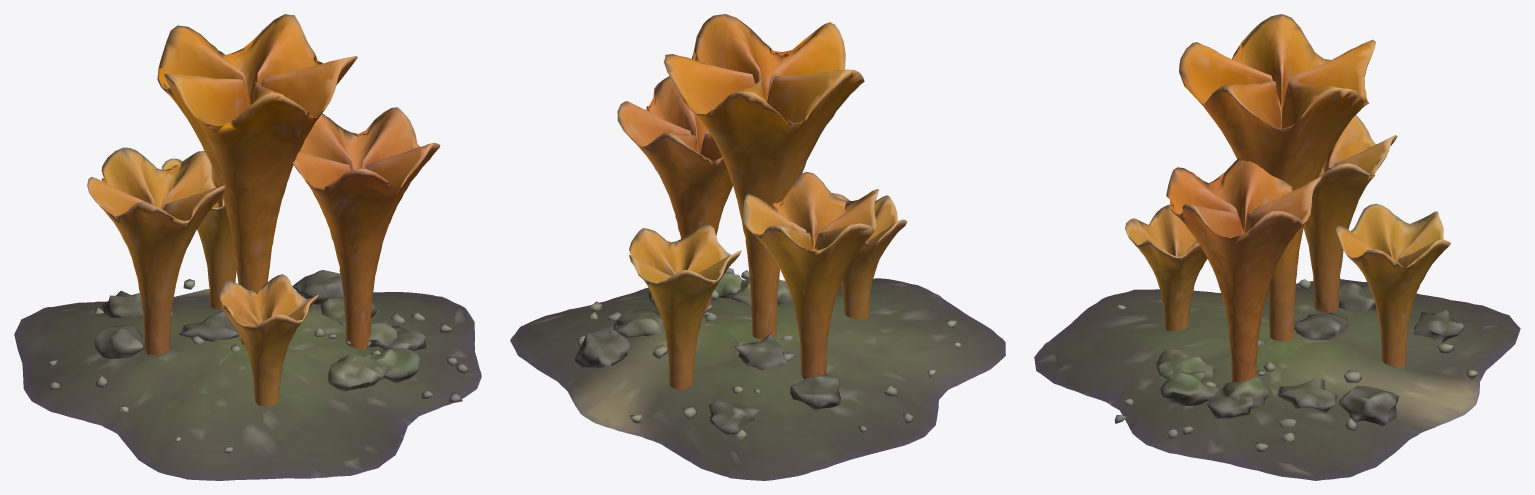
The model's file is mantar_huni.glb.
The picture shows the model from 3 angles, left to right: view 1: azimuth 30°, elevation 25°; view 2: azimuth 150°, elevation 25°; view 3: azimuth 270°, elevation 25°; orthographic projection. The views are drawn at different scales.
Parts seen in each view (by area): view 1: mantar_huni_LOD0; view 2: mantar_huni_LOD0; view 3: mantar_huni_LOD0.
Boxes of the visible parts, x1,y1,x2,y2 form: mantar_huni_LOD0: (14,14,481,480); mantar_huni_LOD0: (510,14,1005,480); mantar_huni_LOD0: (1034,14,1520,480).
Size of what is drawn, in the model's own units: 0.6365 by 0.4665 by 0.6491.
